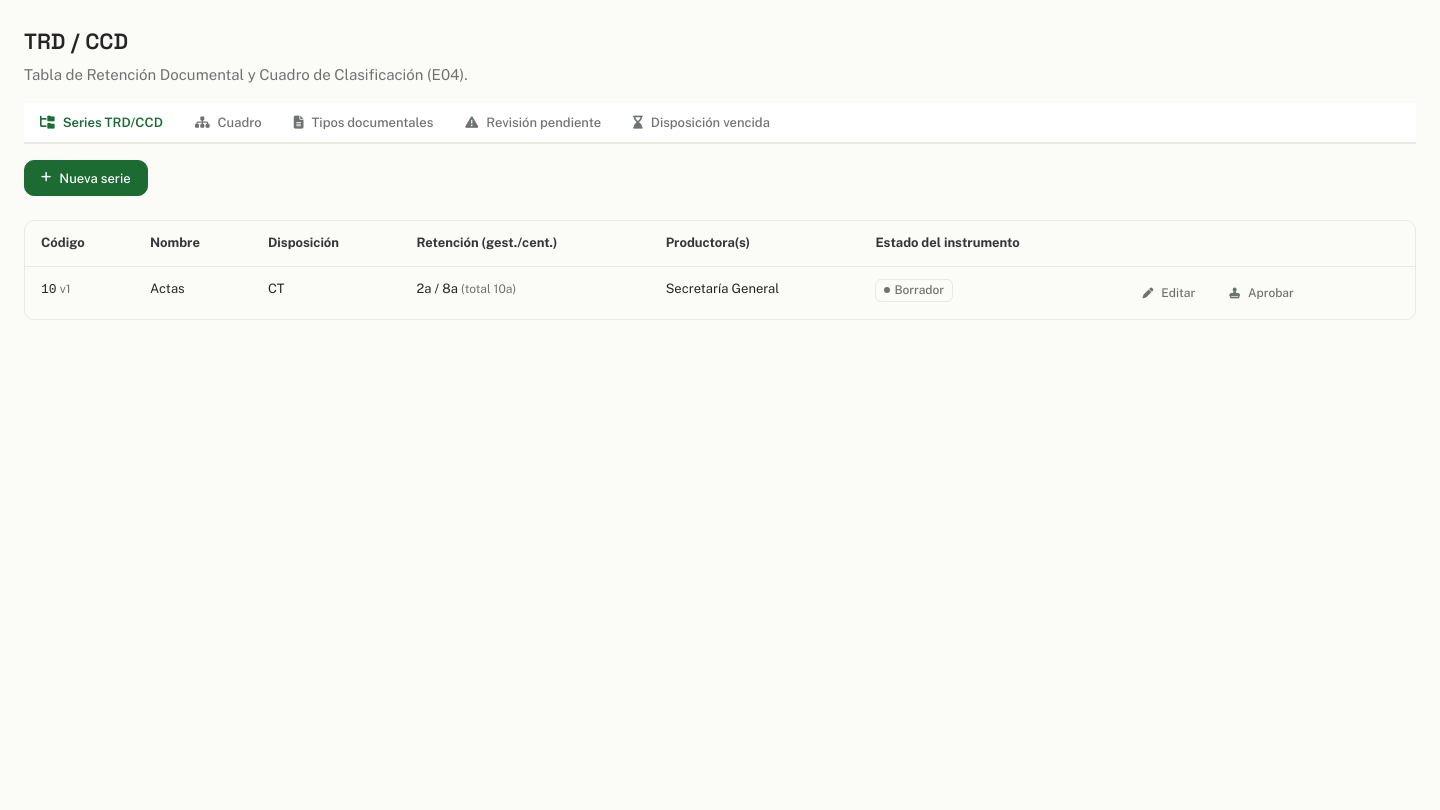
/admin/trd — pestaña Cuadro (C-4) › muestra avisos arriba, sin ubicar al final, y el 403 como «Sin permiso» (no como vacío)
Click the tab "Cuadro" at (228, 124), box [179, 103, 278, 144]
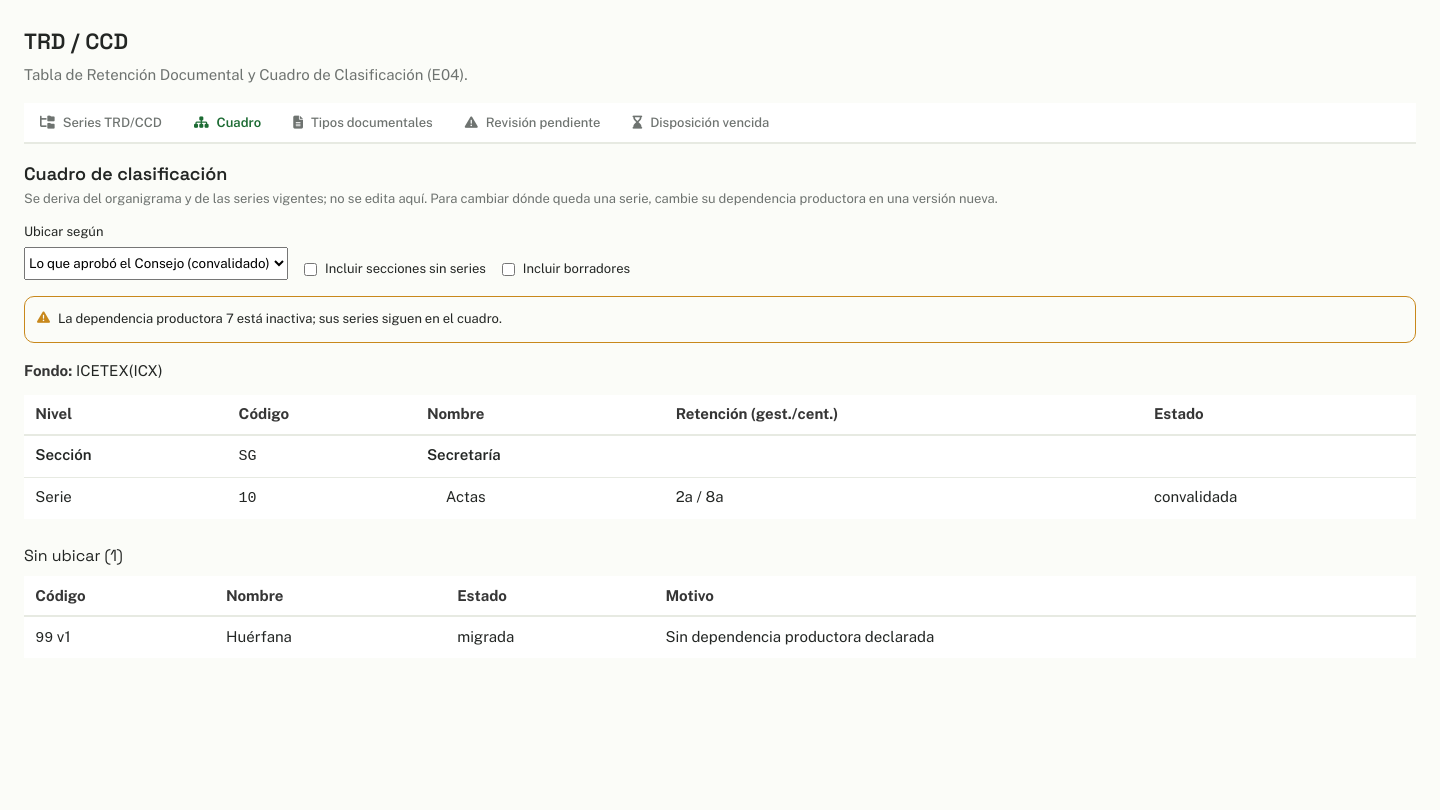
Check: the list item "está inactiva" is shown, box [58, 311, 502, 326]
Check: the text "Huérfana" is shown, box [215, 616, 446, 658]
Check: the text "Sin dependencia productora declarada" is shown, box [654, 616, 1416, 658]
Click the checkbox labelled "Incluir borradores" at (508, 270), box [502, 263, 515, 276]
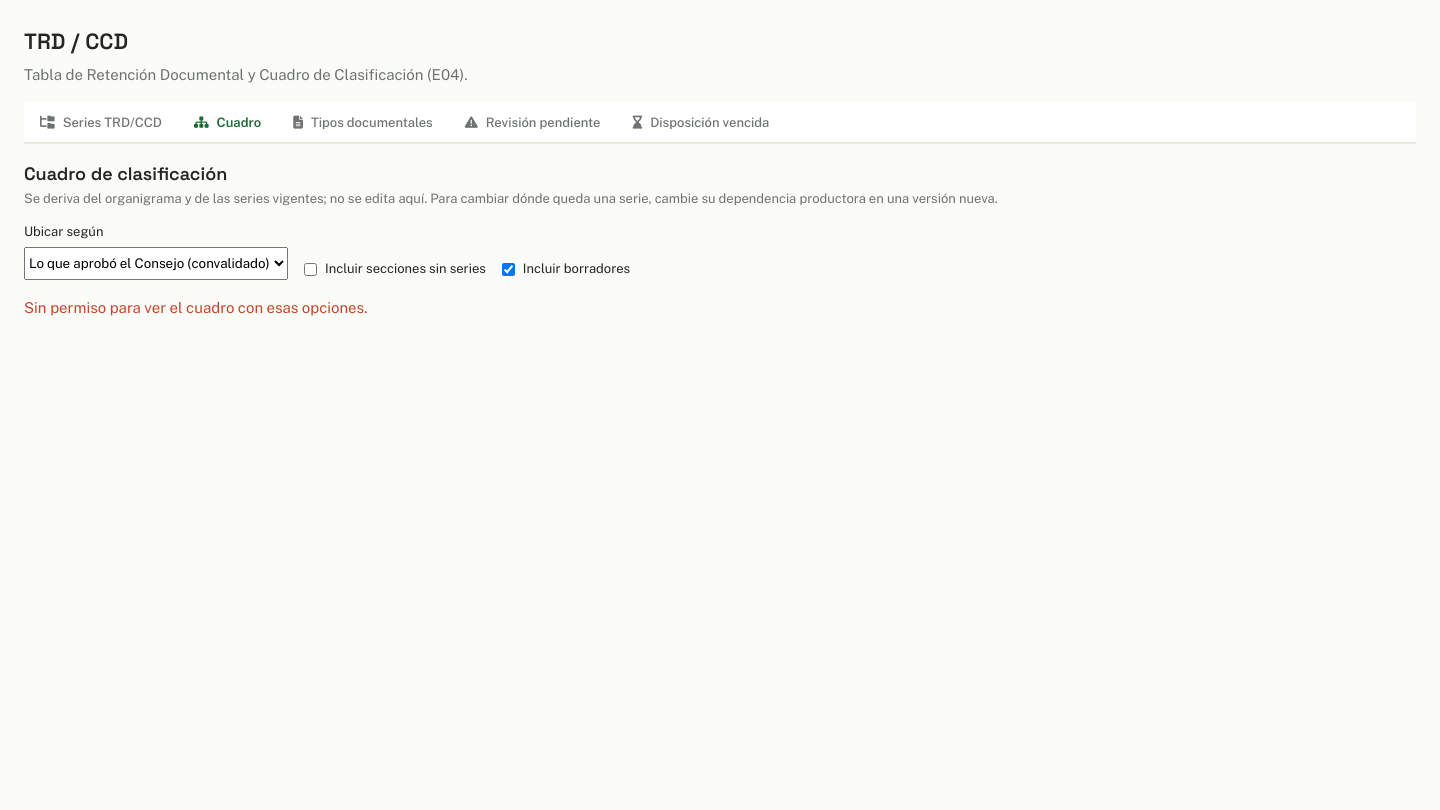
Check: the message shows "Sin permiso", box [24, 299, 368, 316]
